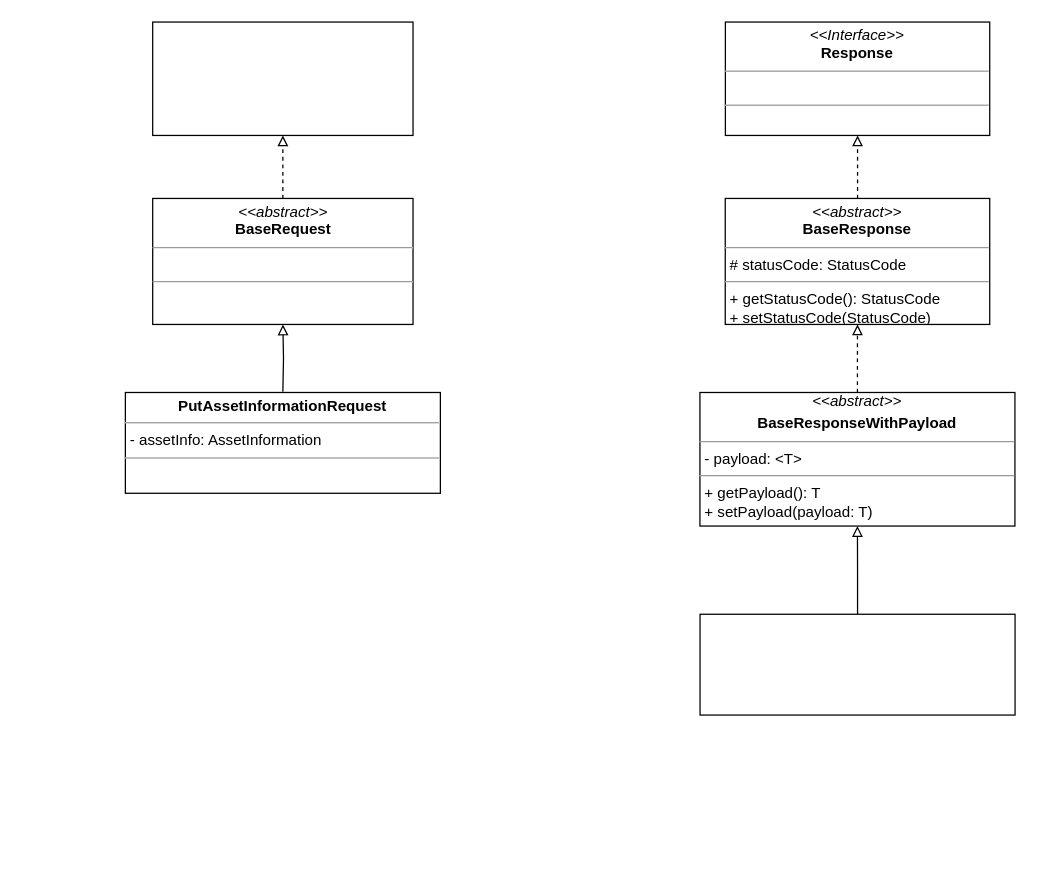
The diagram is 1038 pixels wide and 893 high, and some of its shapes have lost their labels. Here are the shapes that lost their labels. From the top down, the centre of each, then its label:
the point at 282,78: <<Interface>> Request
the point at 857,664: PutAssetInformationResponse
